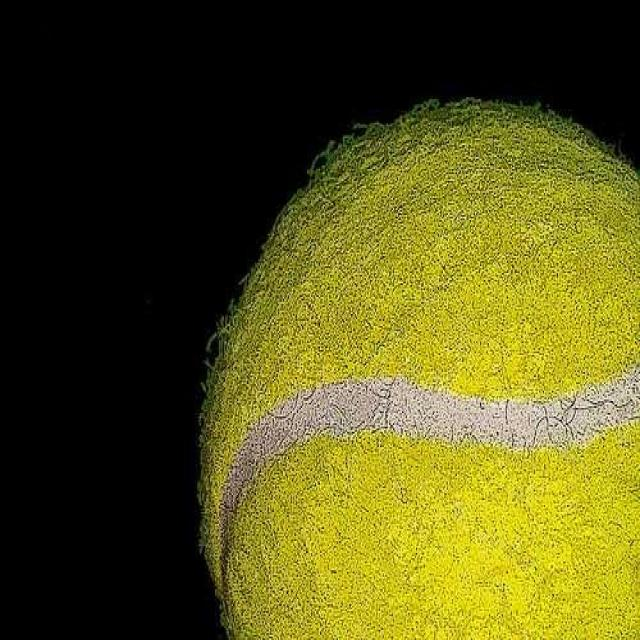Tennis_Ball: (193, 102, 640, 640)
